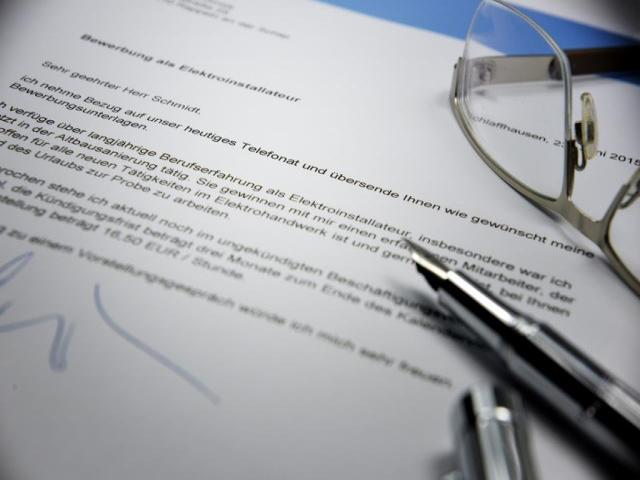PEN: (382, 235, 639, 480)
